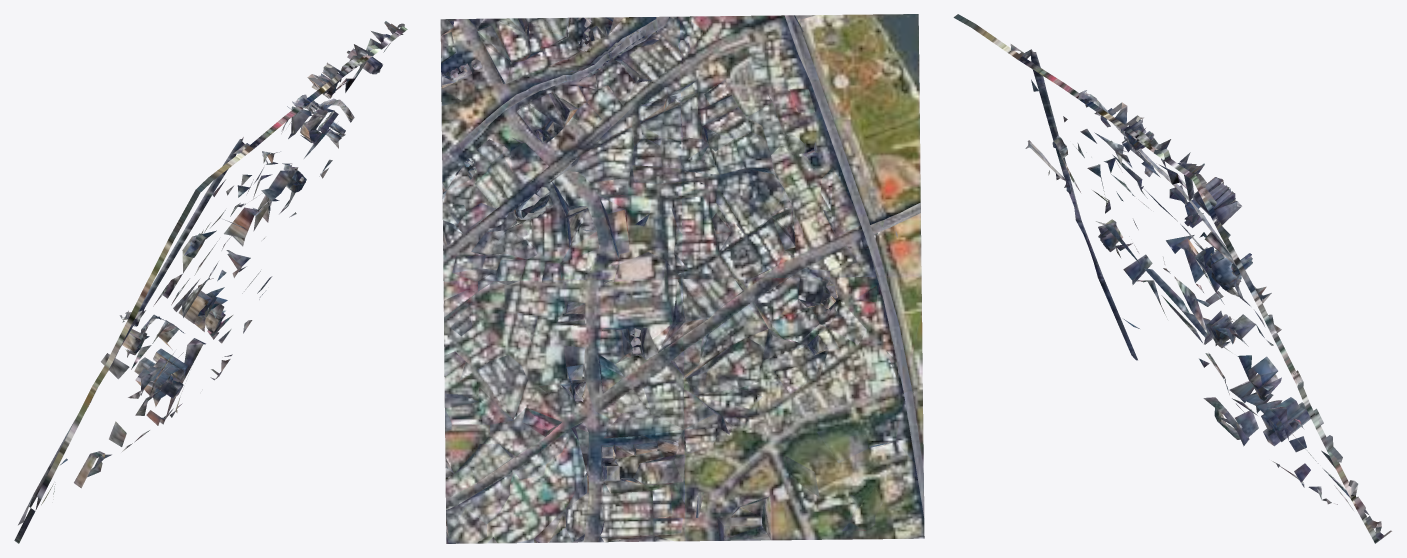
3 views of the same model, side by side, from view 1: azimuth 30°, elevation 25°; view 2: azimuth 150°, elevation 25°; view 3: azimuth 270°, elevation 25° (orthographic). The views are drawn at different scales.
Bounding box in the file's own units: 1226 × 1133 × 1068.
2 materials, 2 textured.
